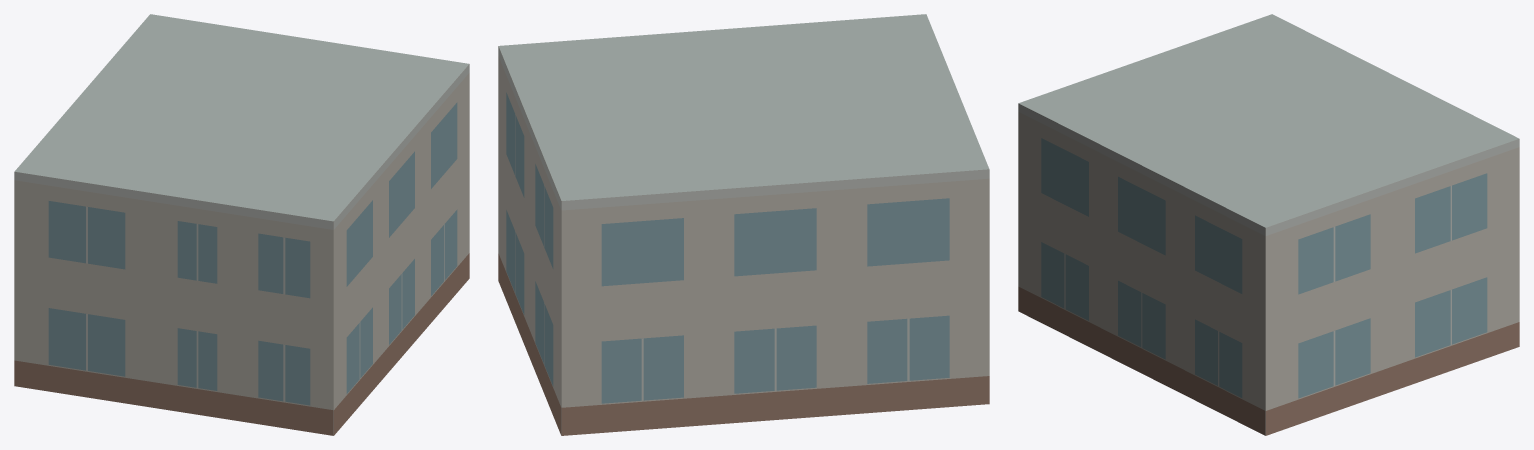
Rendered from survey-upis-32655404.glb.
The picture shows the model from 3 angles, left to right: view 1: azimuth 30°, elevation 25°; view 2: azimuth 150°, elevation 25°; view 3: azimuth 270°, elevation 25°; orthographic projection. The views are drawn at different scales.
Visible parts, largest first — view 1: survey-upis-32655404.tmp; view 2: survey-upis-32655404.tmp; view 3: survey-upis-32655404.tmp.
Part boxes in pixels (x1=…): survey-upis-32655404.tmp: x1=14, y1=14, x2=469, y2=435; survey-upis-32655404.tmp: x1=498, y1=14, x2=989, y2=435; survey-upis-32655404.tmp: x1=1018, y1=14, x2=1519, y2=435.
Bounding box in the file's own units: 13.46 × 6.1 × 13.33.
